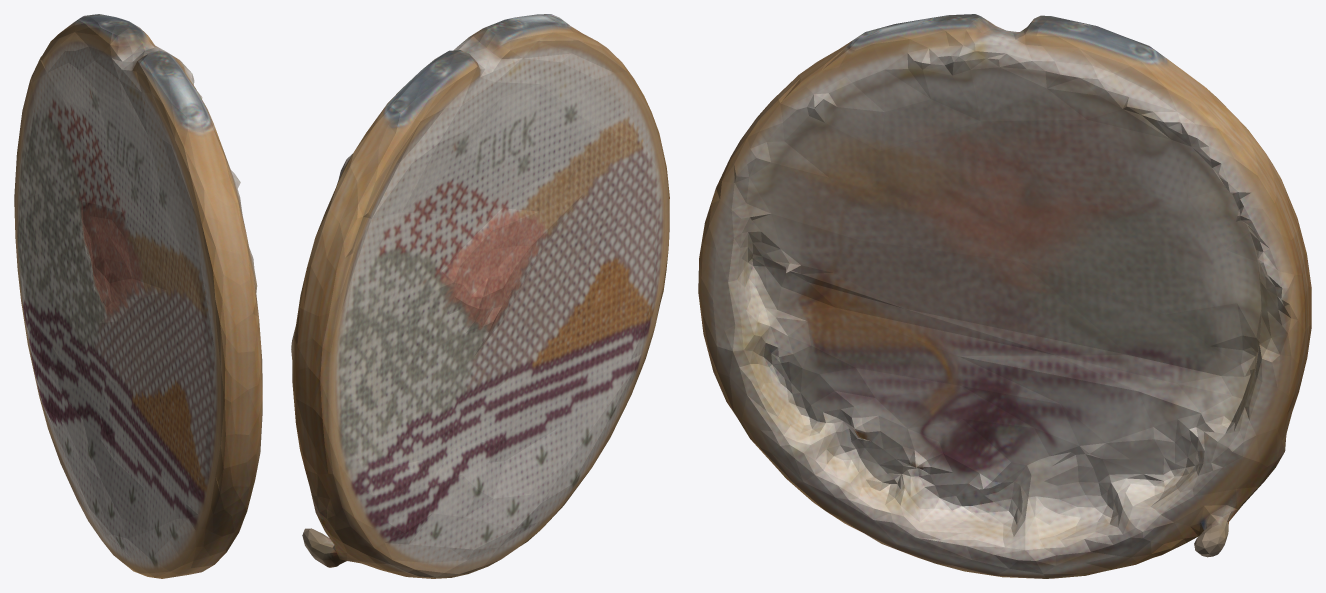
3 renders of one model, left to right at view 1: azimuth 30°, elevation 25°; view 2: azimuth 150°, elevation 25°; view 3: azimuth 270°, elevation 25°, orthographic. The views are drawn at different scales.
Visible parts, largest first — view 1: Stickerei Fuck_2k_2k; view 2: Stickerei Fuck_2k_2k; view 3: Stickerei Fuck_2k_2k.
Boxes of the visible parts, x1,y1,x2,y2 form: Stickerei Fuck_2k_2k: (14, 14, 262, 578); Stickerei Fuck_2k_2k: (291, 14, 669, 578); Stickerei Fuck_2k_2k: (698, 14, 1311, 578).
Size of the model in its own units: 0.0313 by 0.1099 by 0.1094.
1 material, 1 textured.
